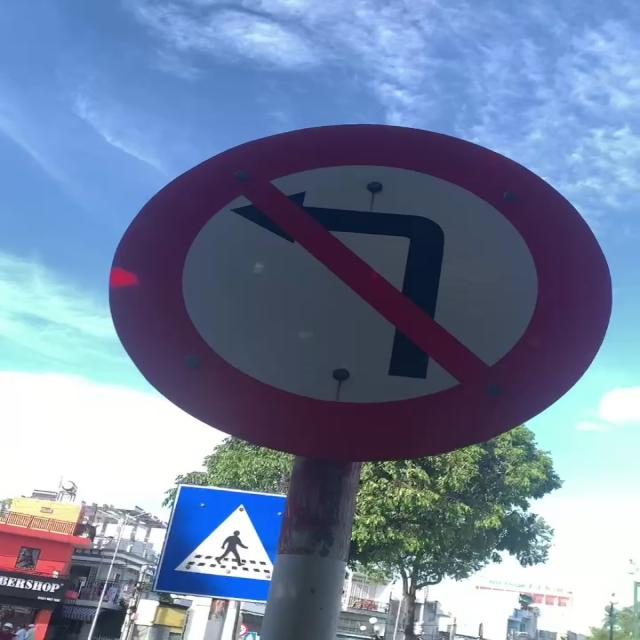Cam_Re_Trai: (109, 119, 614, 474)
